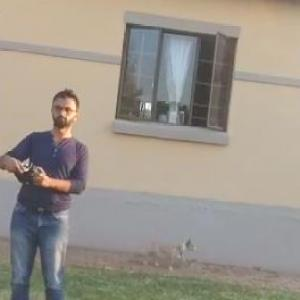follow: (0, 83, 99, 299)
null: (142, 220, 207, 270)
